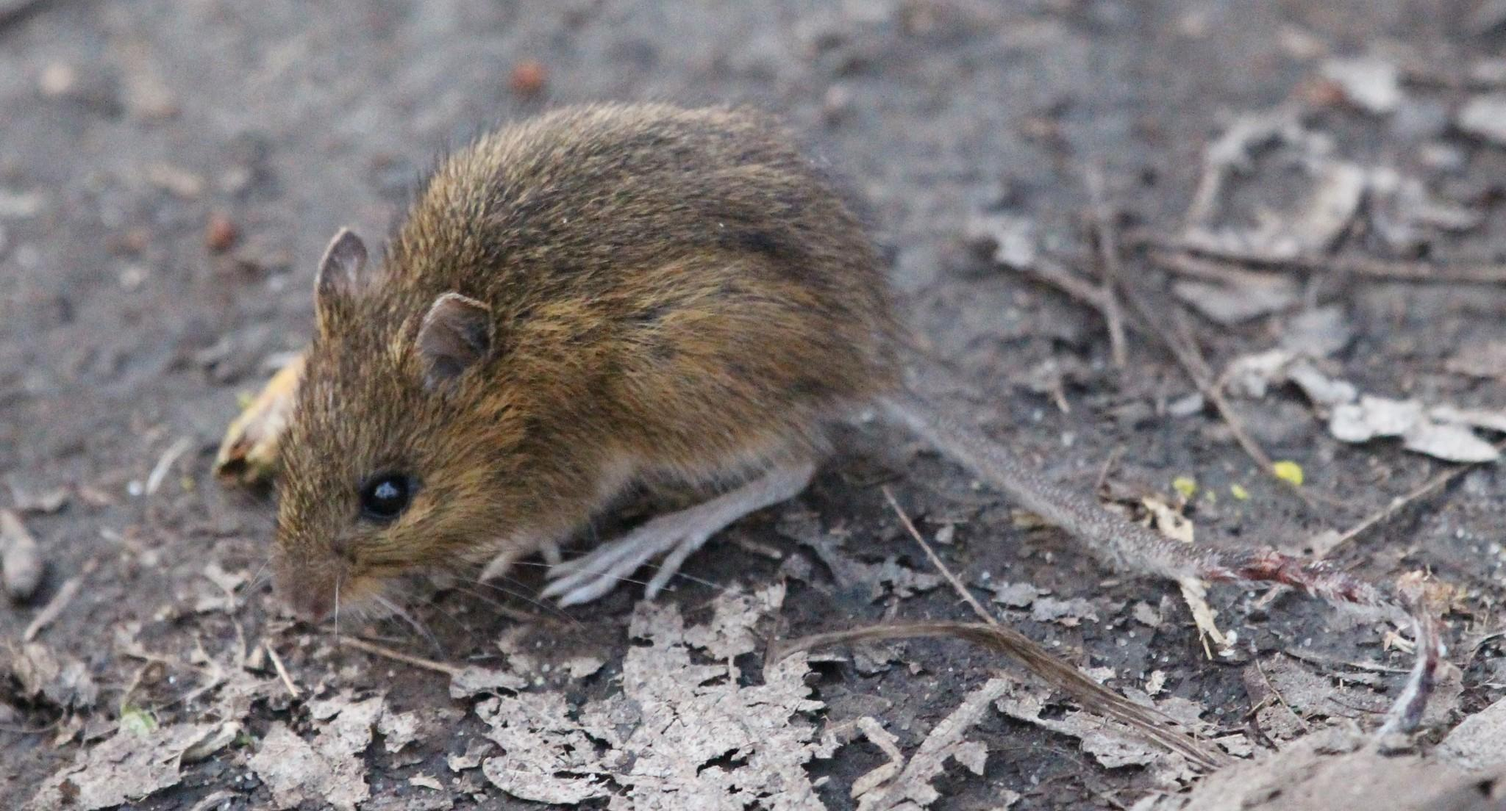rat: (278, 104, 888, 630)
